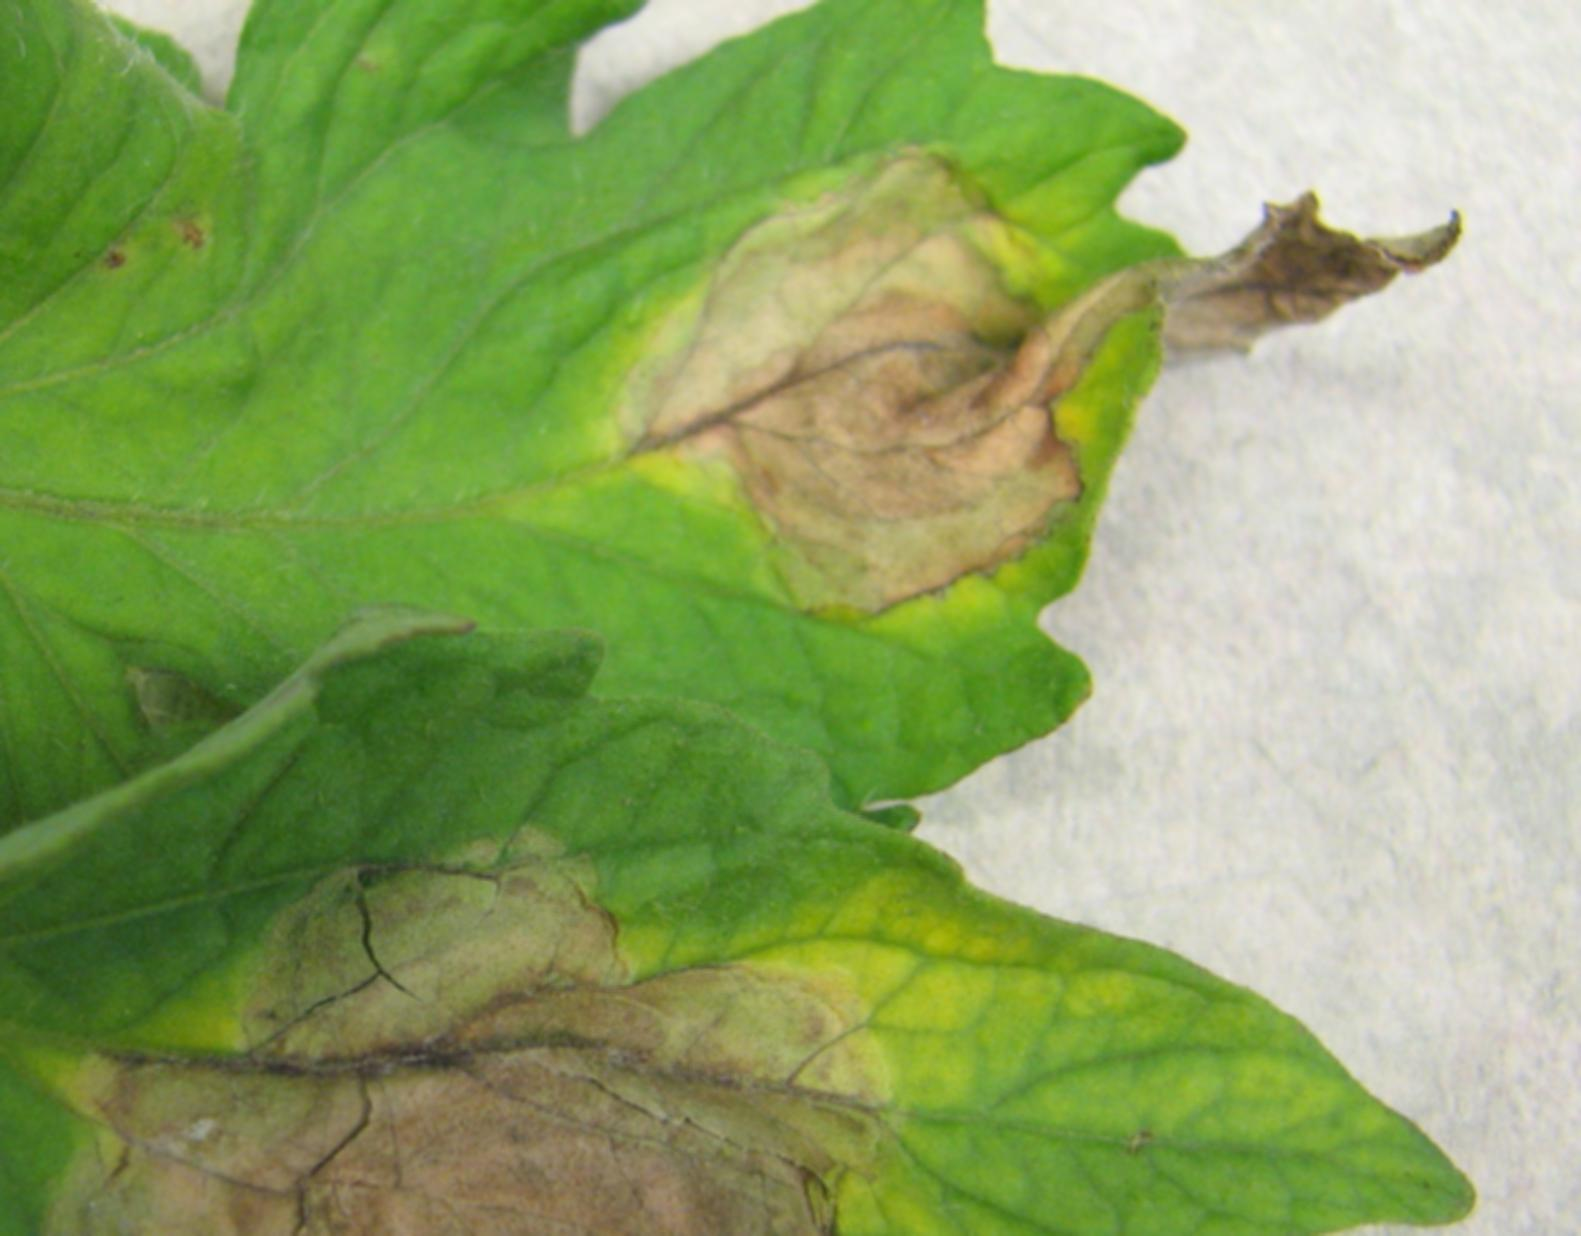Tomato leaf late blight: (0, 0, 1480, 748), (0, 629, 1498, 1236)
